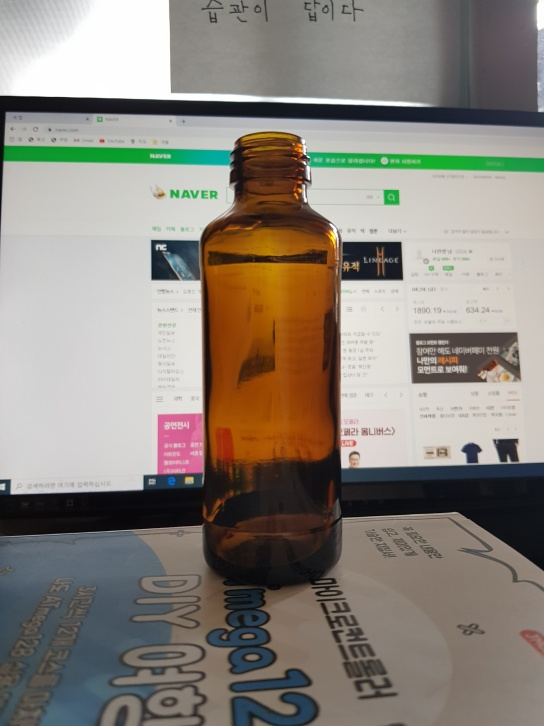Glass: (196, 127, 347, 591)
